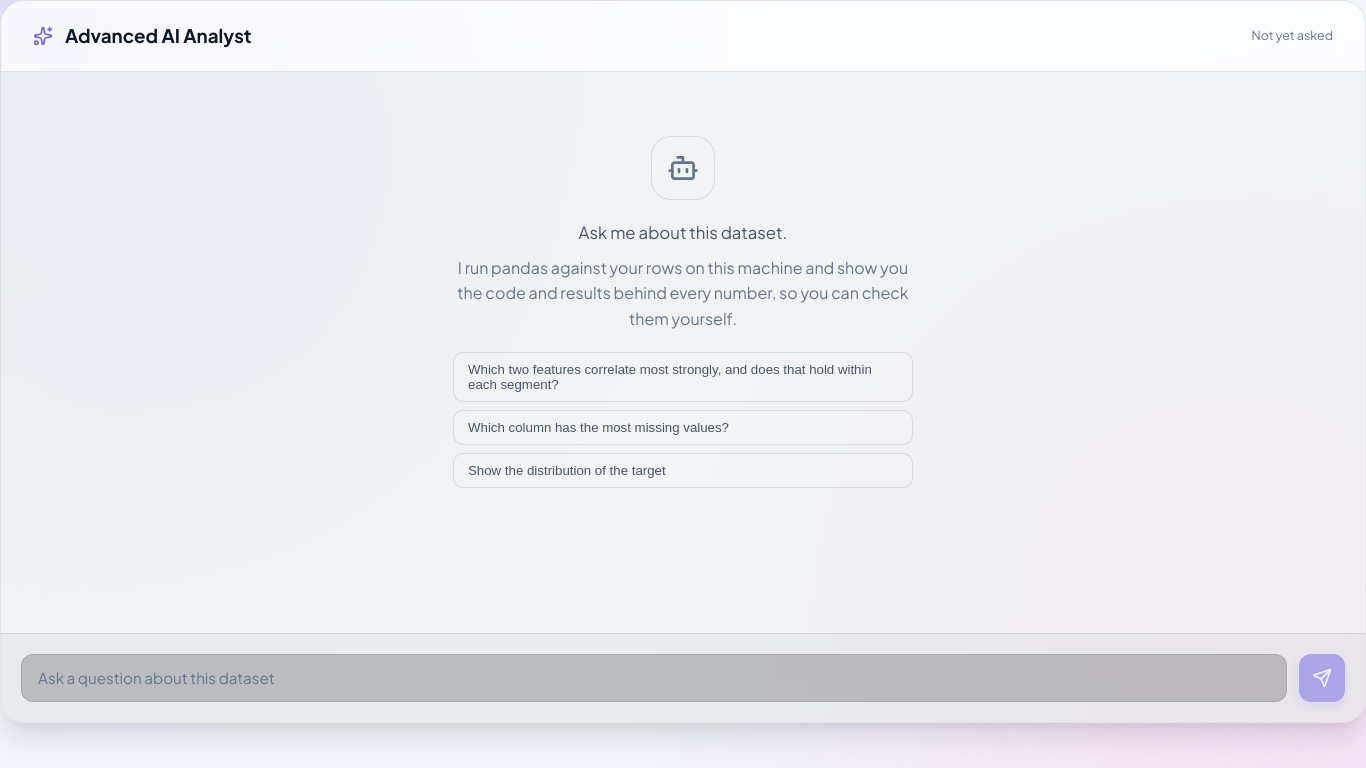
ChatBox › renders a result table rather than flattening it to text
Type "which two features correlate most strongly?" into the field named "Ask the analyst".
click(654, 678); type("which two features correlate most strongly?")  # box x1=21 y1=654 x2=1287 y2=702
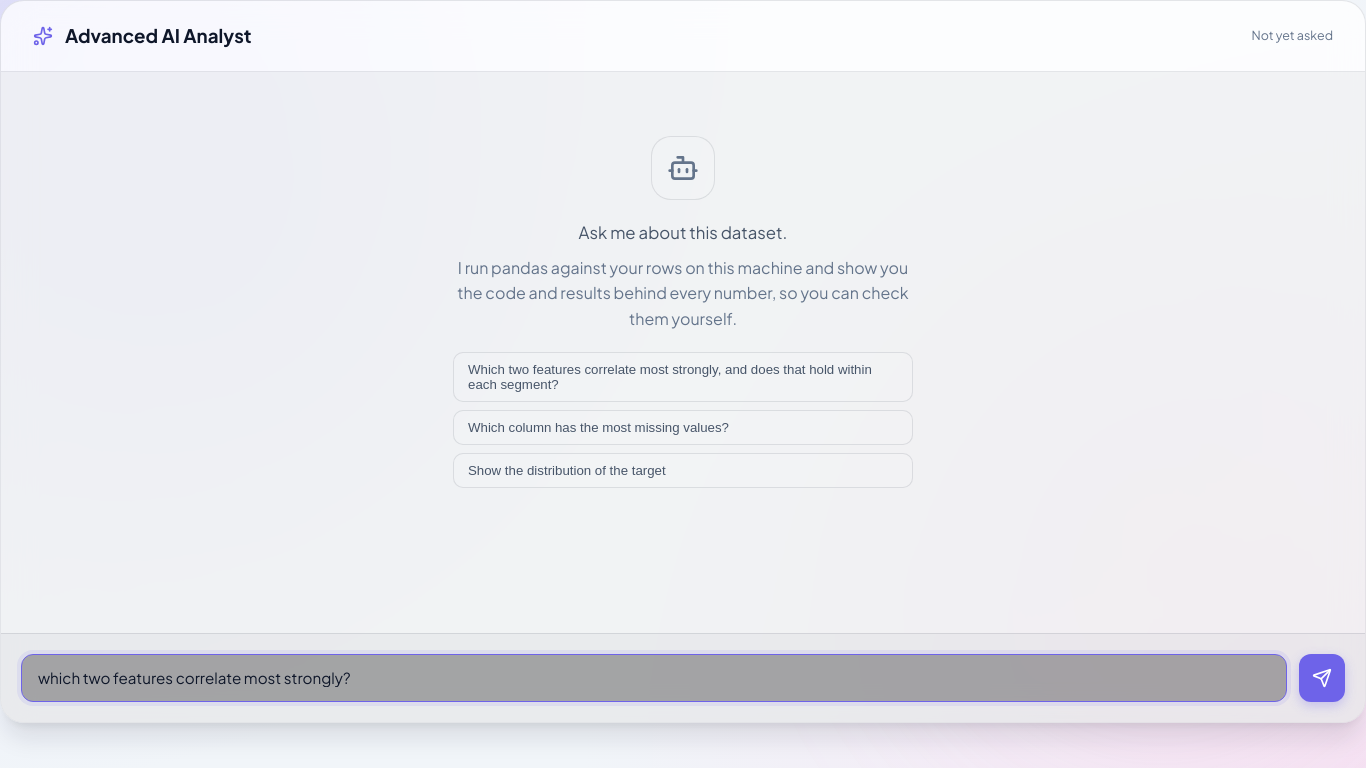
Click the button named "Send".
click(1322, 678)  # box x1=1299 y1=654 x2=1345 y2=702
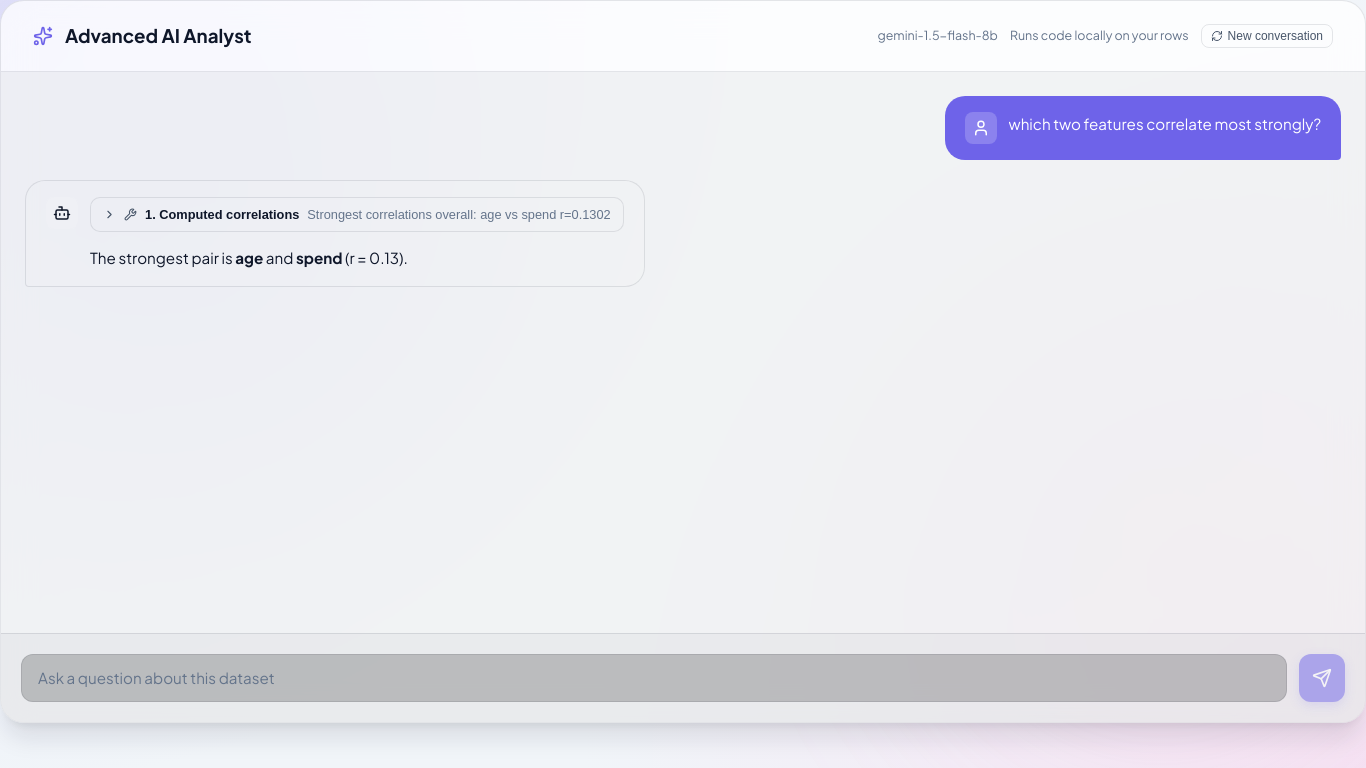
Click the button "Computed correlations".
click(357, 214)  # box x1=91 y1=198 x2=623 y2=231
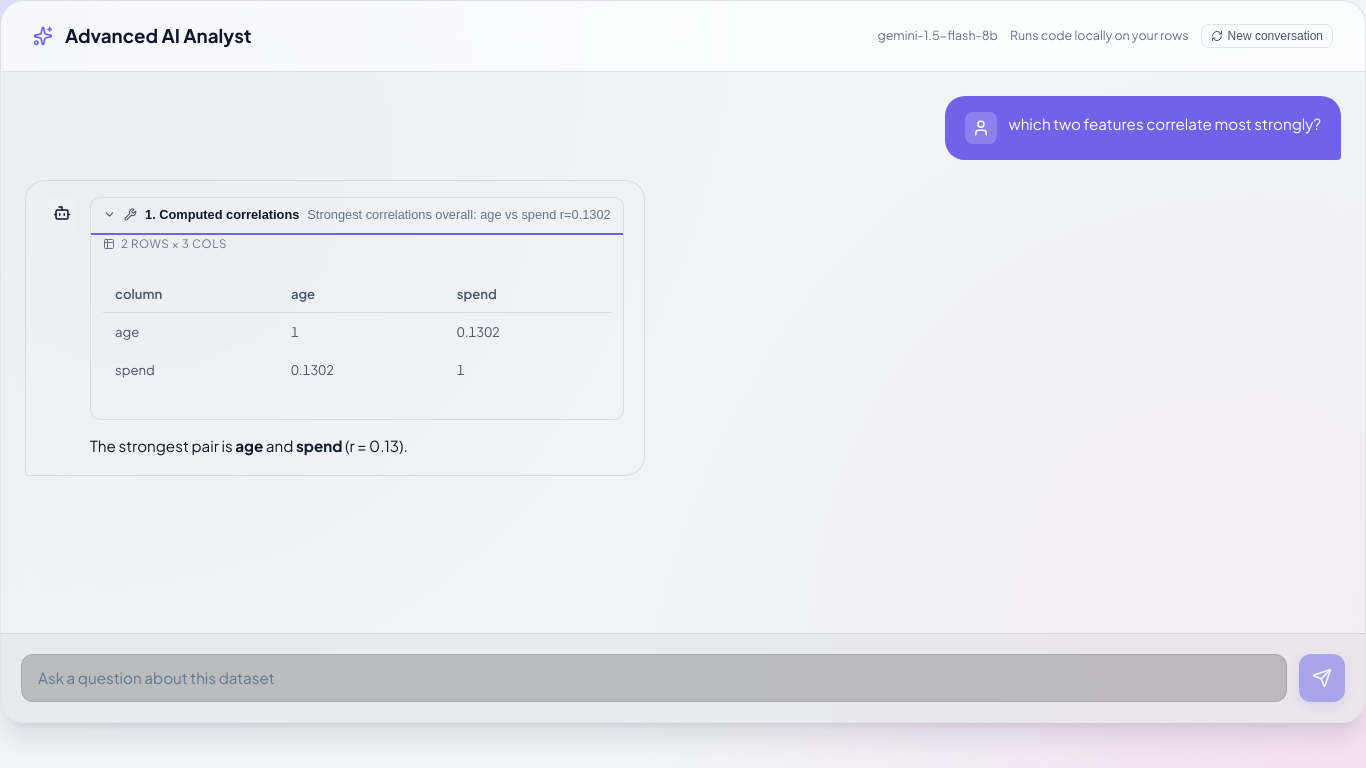
Now the text "0.1302" is shown 2 times, box x1=445 y1=313 x2=611 y2=351; x1=279 y1=351 x2=445 y2=389
Now the column heading "column" is shown, box x1=103 y1=275 x2=279 y2=313
